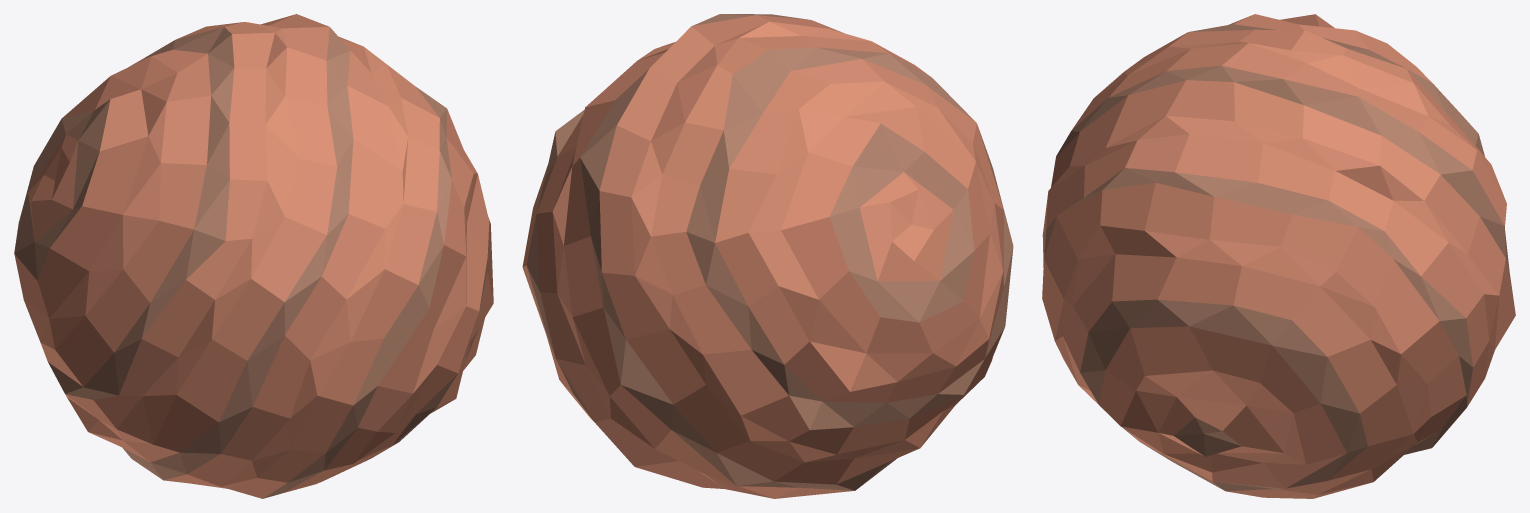
File: Venus.fbx
3 views of the same model, side by side, from view 1: azimuth 30°, elevation 25°; view 2: azimuth 150°, elevation 25°; view 3: azimuth 270°, elevation 25° (orthographic).
Visible parts, largest first — view 1: Venus; view 2: Venus; view 3: Venus.
Part boxes in pixels (box(x1,y1,x2,y2)): Venus: box(14, 14, 493, 498); Venus: box(522, 14, 1013, 498); Venus: box(1042, 14, 1515, 498).
Size of the model in its own units: 178 by 184 by 181.
